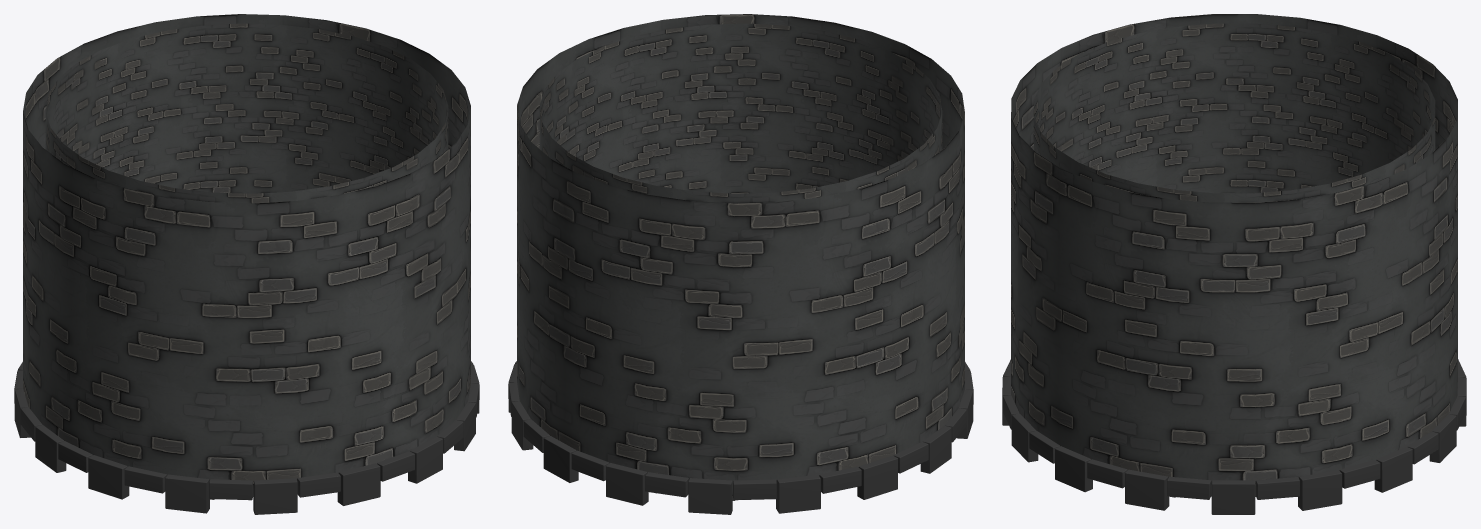
File: SM_Tower_Mid.FBX
The picture shows the model from 3 angles, left to right: view 1: azimuth 30°, elevation 25°; view 2: azimuth 150°, elevation 25°; view 3: azimuth 270°, elevation 25°; orthographic projection.
Parts seen in each view (by area): view 1: SM_Tower_Mid_LOD0; view 2: SM_Tower_Mid_LOD0; view 3: SM_Tower_Mid_LOD0.
Boxes of the visible parts, box(x1,y1,x2,y2) form: SM_Tower_Mid_LOD0: box(14, 14, 479, 514); SM_Tower_Mid_LOD0: box(508, 14, 973, 514); SM_Tower_Mid_LOD0: box(1002, 14, 1466, 514).
Bounding box in the file's own units: 1418 × 1418 × 1041.
